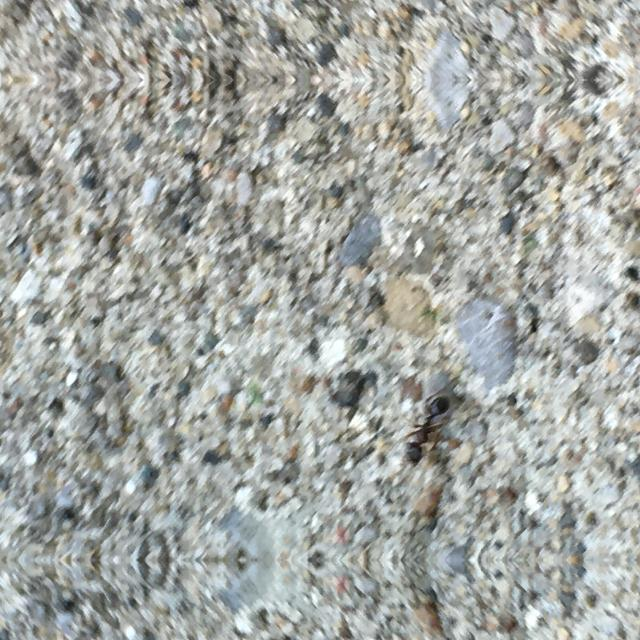Tetramorium: (376, 377, 460, 465)
